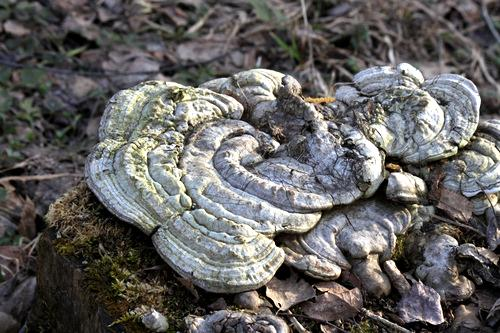Ganoderma - Fruit Body: (84, 63, 484, 291)
